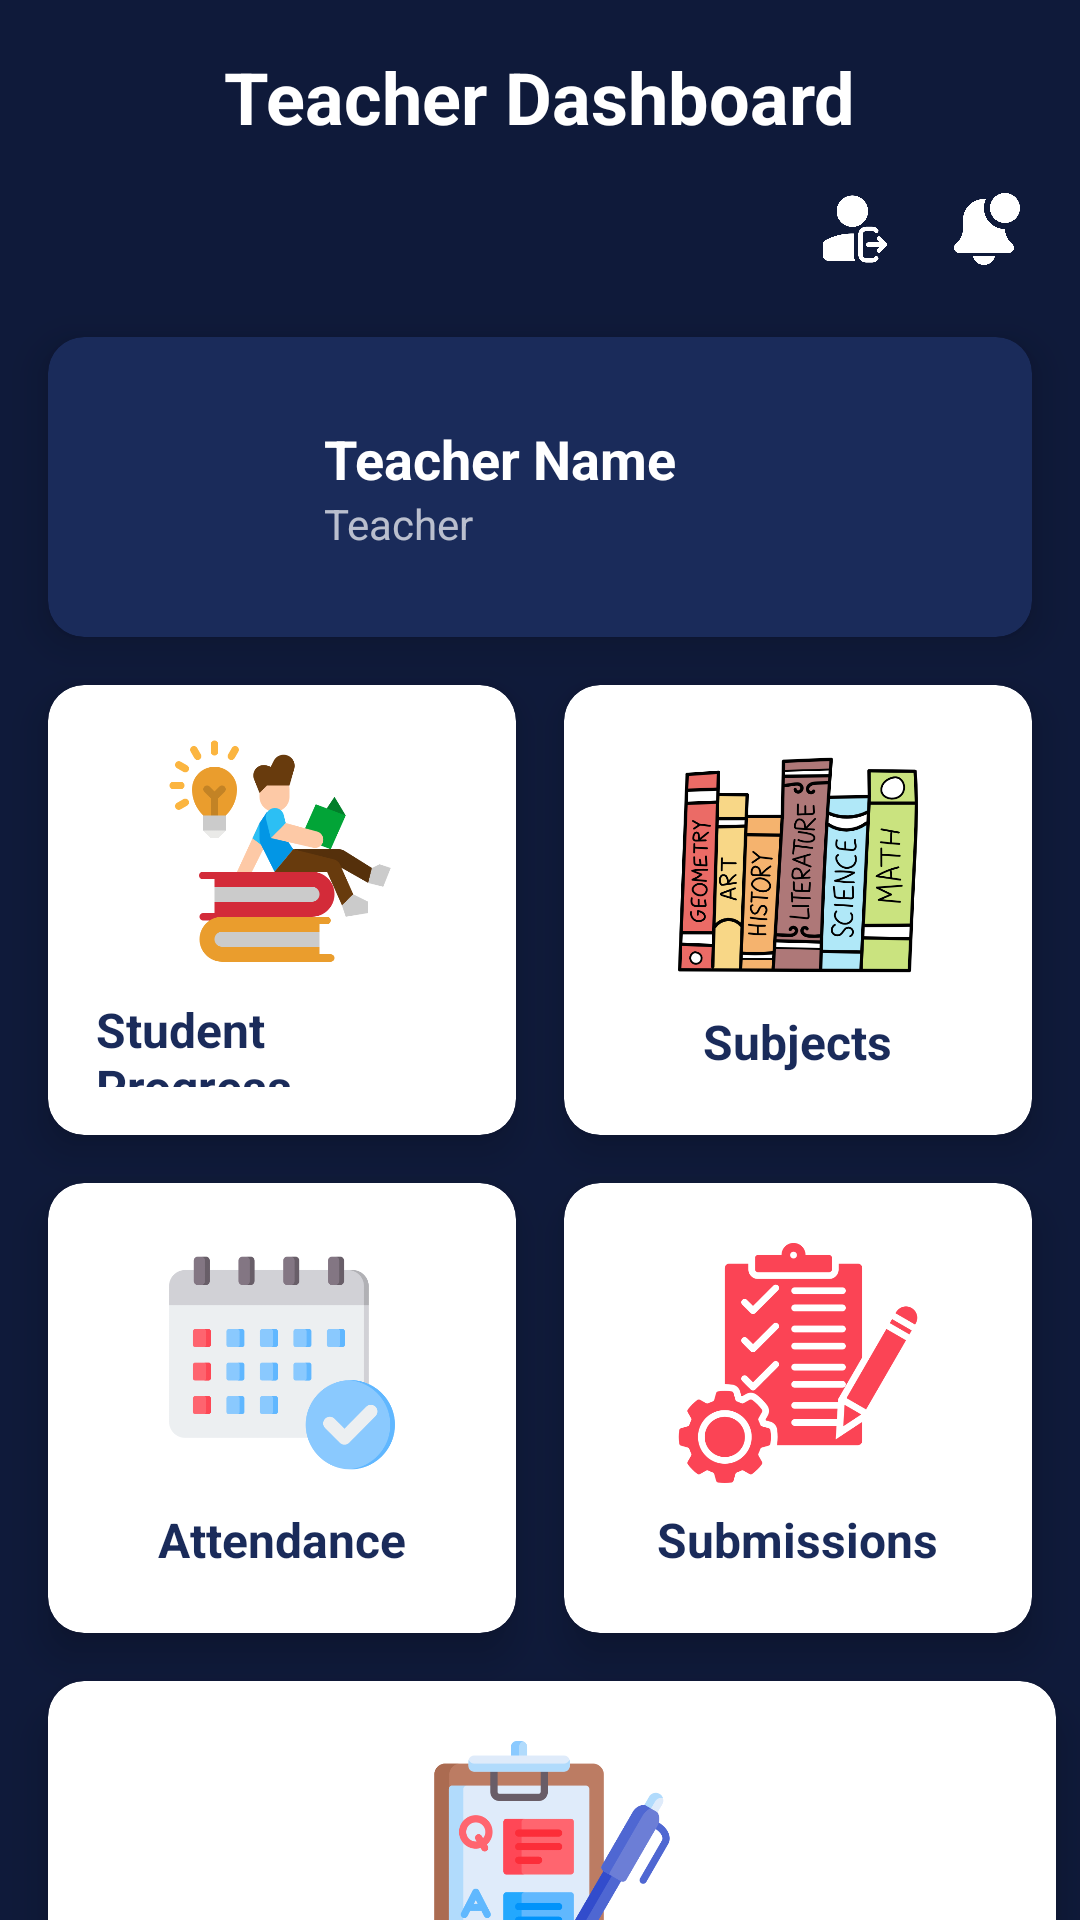

Where icons sit on this 1080 × 1920 app screen, as [left=x1, top=y1, right=x2, bottom=y2]:
notification: [left=954, top=193, right=1020, bottom=265]
